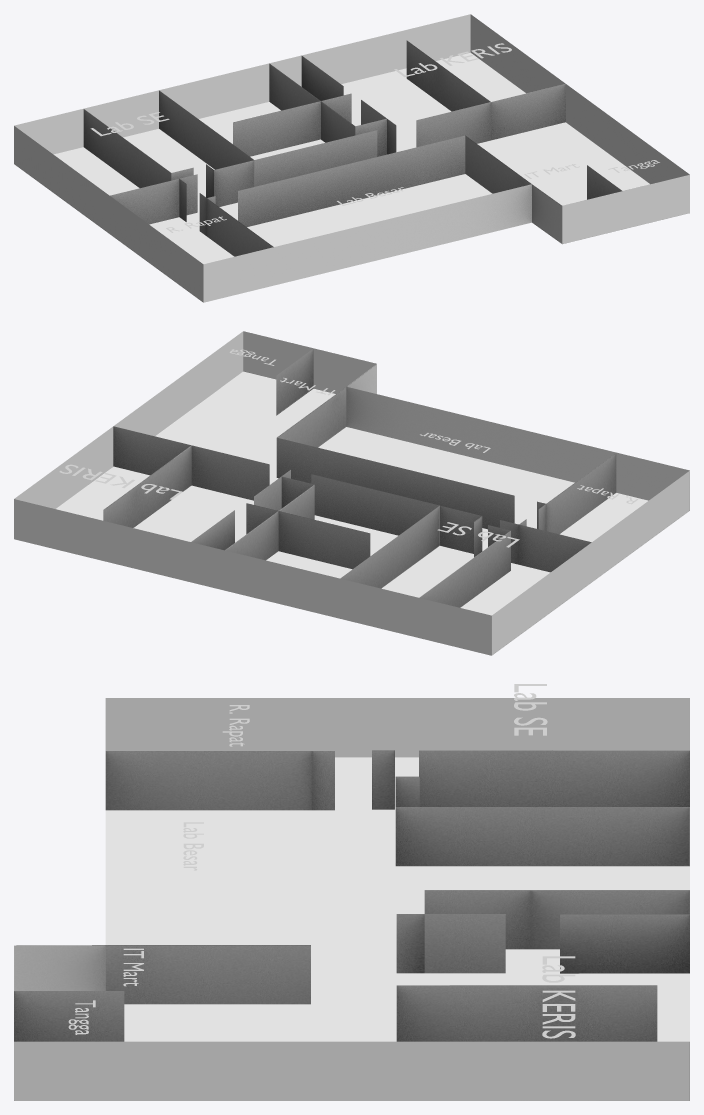
The model's file is rise_center_lt2.glb.
3 views of the same model, one above another, from view 1: azimuth 30°, elevation 25°; view 2: azimuth 150°, elevation 25°; view 3: azimuth 270°, elevation 25° (orthographic). The views are drawn at different scales.
Visible parts, largest first — view 1: Plane.001, Text.007; view 2: Plane.001, Text.007; view 3: Plane.001, Text.007, Text.006.
Part boxes in pixels (x1,y1,x2,y2): Plane.001: [14, 14, 689, 302]; Text.007: [394, 43, 511, 77]; Plane.001: [14, 331, 689, 655]; Text.007: [59, 464, 182, 499]; Plane.001: [14, 698, 689, 1100]; Text.007: [542, 956, 575, 1038]; Text.006: [514, 684, 547, 735].
Size of the model in its own units: 4.94 by 0.6418 by 4.11.
1 material, 1 textured.
